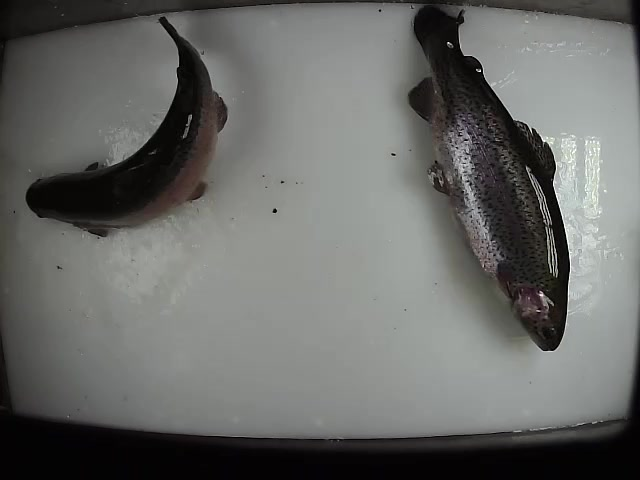Fish: (407, 5, 570, 352), (26, 14, 228, 239)
